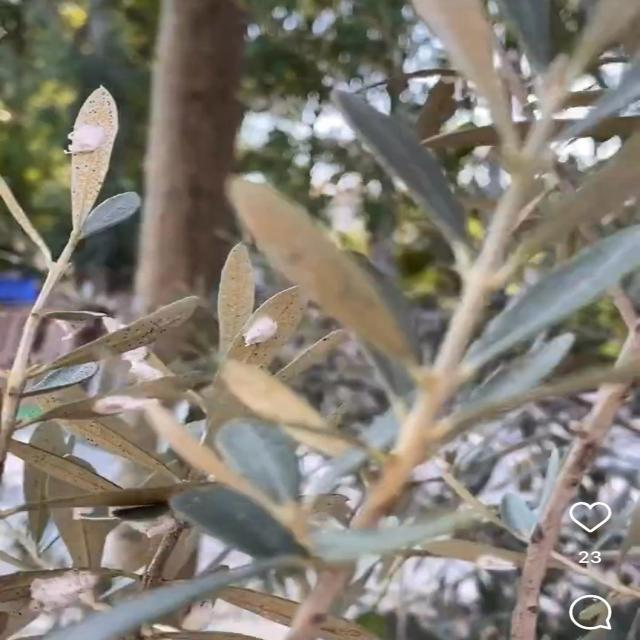Psyllid: (64, 86, 119, 232), (29, 570, 111, 612), (112, 504, 182, 538), (234, 314, 278, 358)
